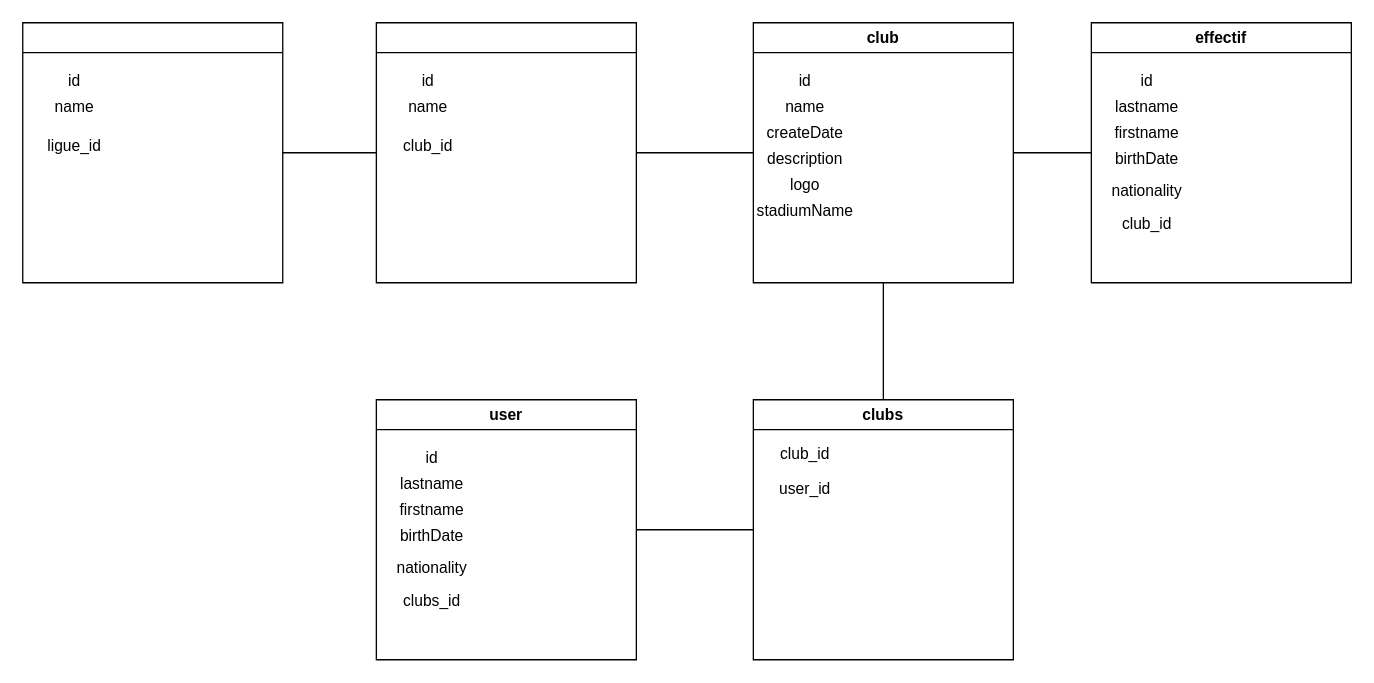
Some shapes in this 1374 by 683 pixel diagram are drawn without their labels. The box of each missing label's shape, as (x1, y1, x2, y2) in pixels:
country: (21, 21, 283, 283)
ligue: (375, 21, 636, 283)
